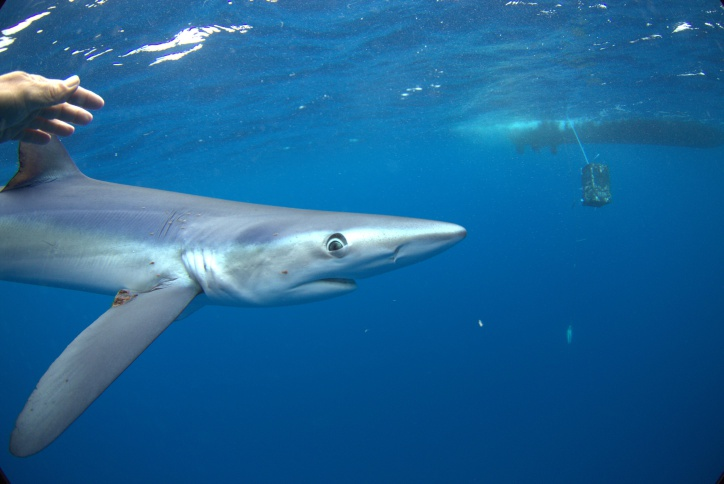Azul: (1, 122, 498, 474)
